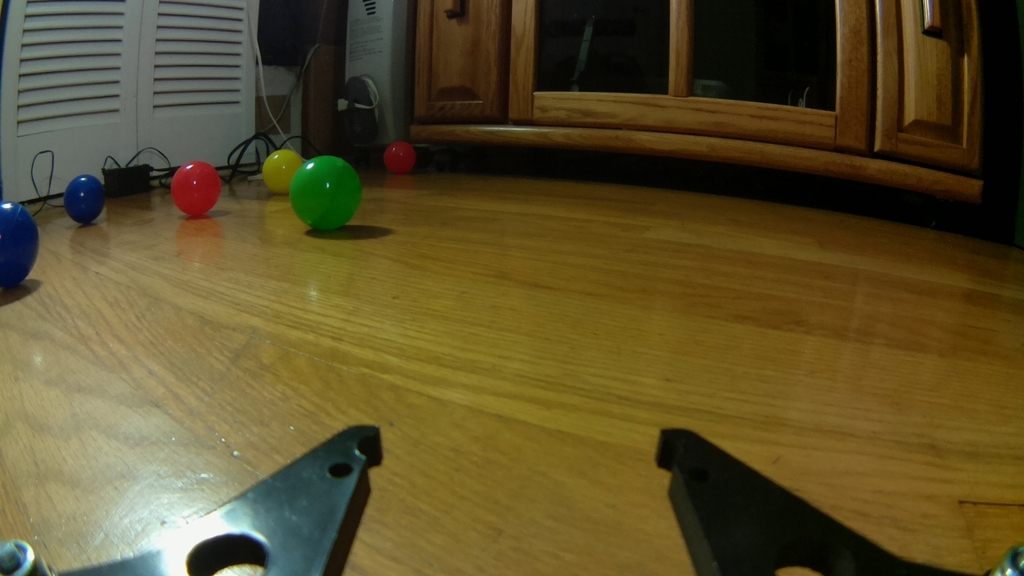ball: (0, 199, 38, 292)
